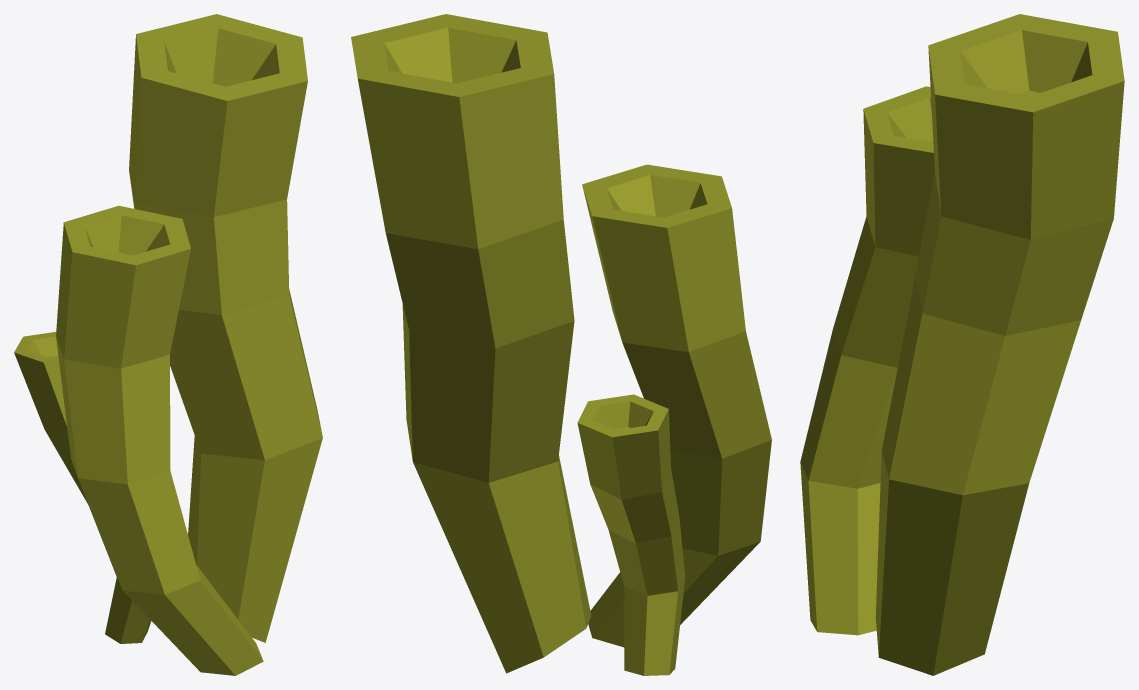
Rendered from Coral_23.fbx.
The picture shows the model from 3 angles, left to right: view 1: azimuth 30°, elevation 25°; view 2: azimuth 150°, elevation 25°; view 3: azimuth 270°, elevation 25°; orthographic projection. The views are drawn at different scales.
Parts seen in each view (by area): view 1: Coral_23; view 2: Coral_23; view 3: Coral_23.
Boxes of the visible parts, box(x1,y1,x2,y2) form: Coral_23: box(14, 14, 322, 675); Coral_23: box(351, 14, 771, 675); Coral_23: box(800, 14, 1124, 675).
Size of the model in its own units: 34.69 by 62.35 by 29.38.
